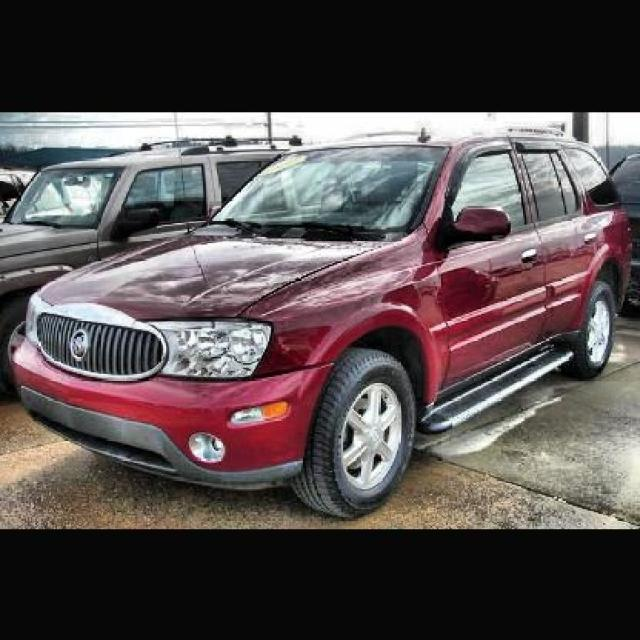maroon: (15, 141, 640, 477)
